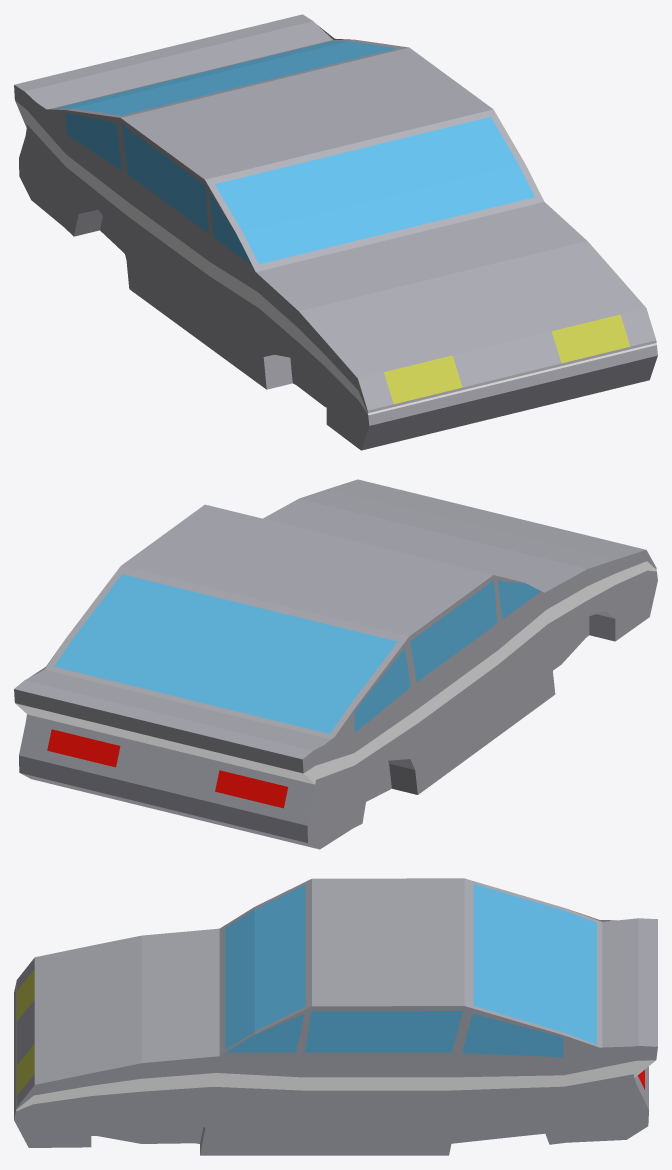
The model's file is AE86trueno.fbx.
3 views of the same model, one above another, from view 1: azimuth 30°, elevation 25°; view 2: azimuth 150°, elevation 25°; view 3: azimuth 270°, elevation 25° (orthographic). The views are drawn at different scales.
Visible parts, largest first — view 1: Cube; view 2: Cube; view 3: Cube.
Boxes of the visible parts, x1=… form: Cube: x1=14, y1=14, x2=657, y2=450; Cube: x1=14, y1=479, x2=657, y2=849; Cube: x1=14, y1=878, x2=657, y2=1155.
Bounding box in the file's own units: 334 × 182 × 711.
